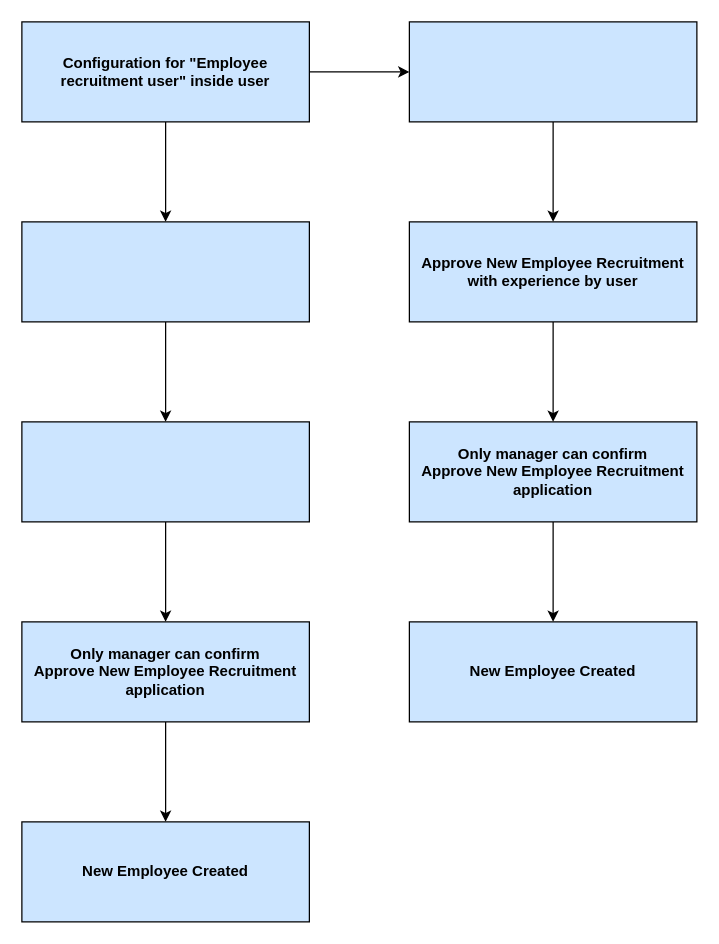
The diagram is 719 pixels wide and 944 high, and some of its shapes have lost their labels. Here are the shapes that lost their labels. From the top down, the box of each, then its label:
(408, 21, 697, 122): Create New Employee Recruitment for Experience
(21, 221, 309, 322): Create New Employee Recruitment for Fresher
(21, 421, 309, 522): Approve New Employee Recruitment by user
